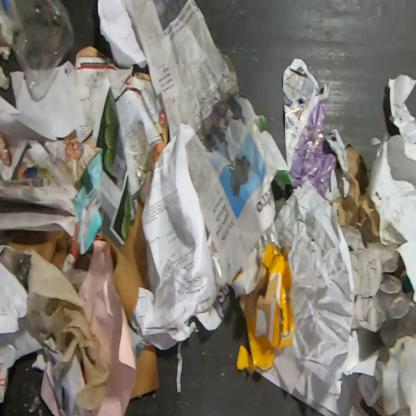cardboard: (340, 226, 416, 364), (235, 243, 295, 376), (100, 195, 152, 318), (329, 143, 380, 243), (2, 229, 72, 272), (129, 346, 160, 401), (73, 248, 92, 272)
rigid_plastic: (0, 0, 77, 103)
soft_plastic: (252, 219, 282, 259)
